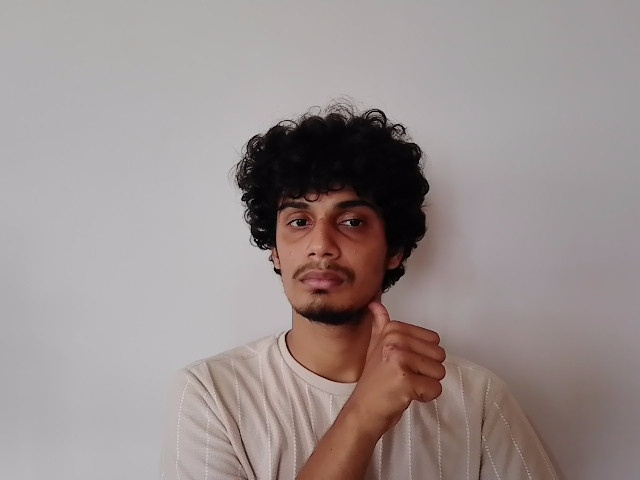not: (285, 293, 452, 403)
